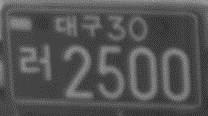0: (161, 47, 191, 102), (128, 46, 157, 101), (129, 16, 148, 43)
2: (62, 43, 95, 98)
3: (107, 15, 126, 42)
5: (96, 46, 125, 99)
대구_O: (55, 14, 104, 37)
러: (18, 44, 51, 80)
